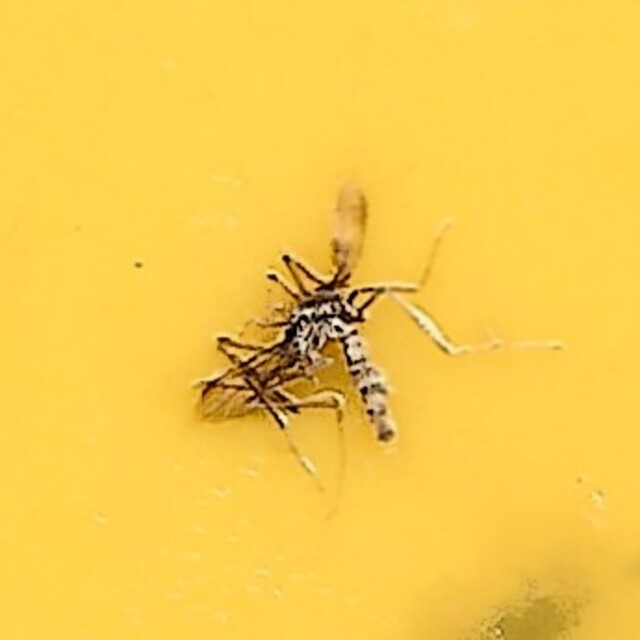Nematocera: (186, 190, 454, 450)
